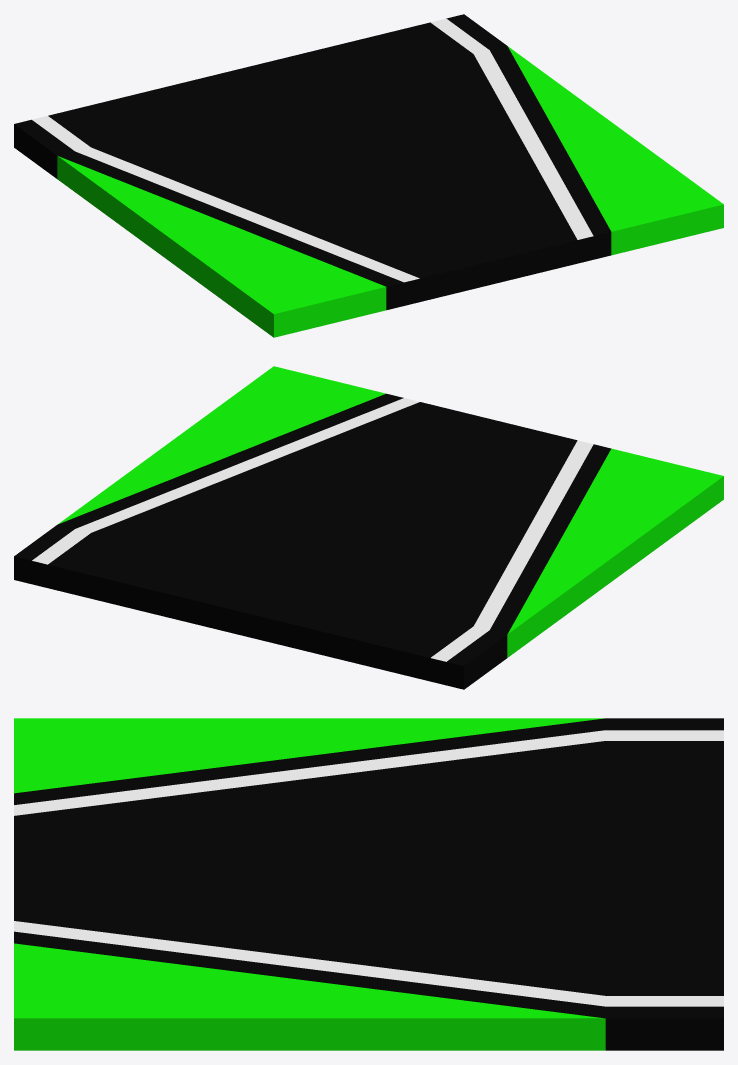
The model's file is bigtosmall_export.fbx.
The picture shows the model from 3 angles, top to bottom: view 1: azimuth 30°, elevation 25°; view 2: azimuth 150°, elevation 25°; view 3: azimuth 270°, elevation 25°; orthographic projection. The views are drawn at different scales.
Visible parts, largest first — view 1: Road, Grass; view 2: Road, Grass; view 3: Road, Grass.
Boxes of the visible parts, box(x1,y1,x2,y2) form: Road: box(14, 14, 611, 310); Grass: box(57, 46, 723, 337); Road: box(14, 393, 611, 689); Grass: box(58, 366, 723, 657); Road: box(14, 718, 723, 1050); Grass: box(14, 718, 605, 1050).
Bounding box in the file's own units: 2000 × 100 × 2000.
